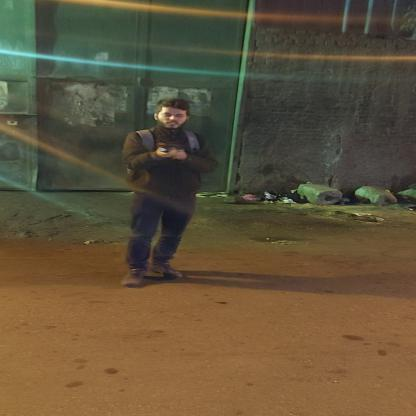long weapon: (143, 134, 206, 166)
